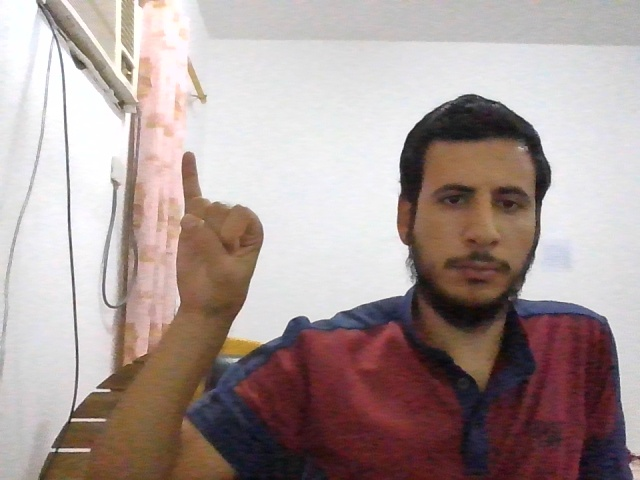One: (176, 152, 263, 309)
